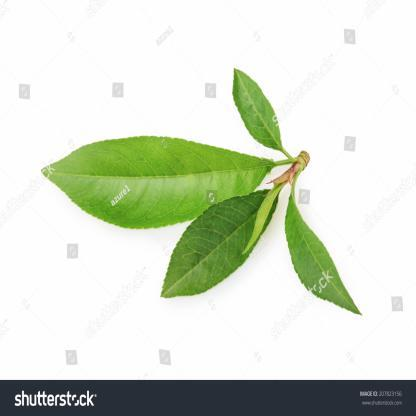Peach leaf: (26, 132, 274, 237), (157, 182, 282, 302), (282, 185, 364, 318), (228, 56, 284, 152)
